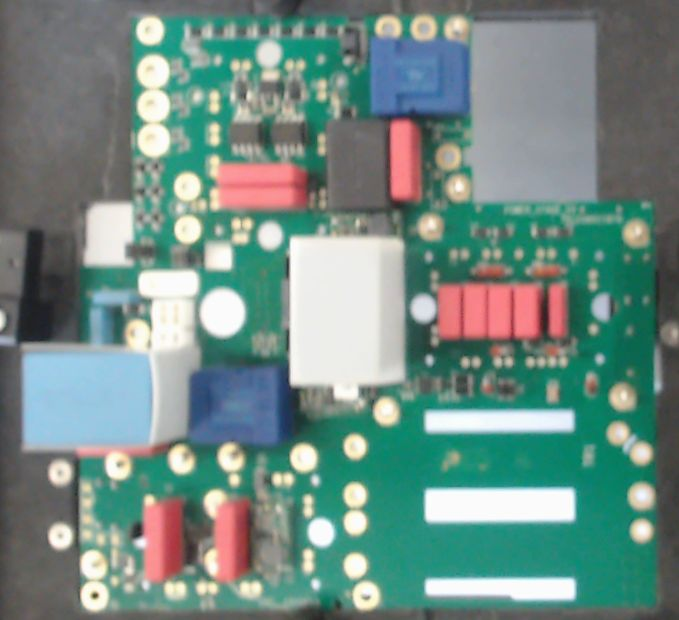comp1: (368, 34, 468, 117), (189, 366, 293, 445)
comp2: (141, 498, 185, 582), (215, 500, 251, 581), (389, 119, 422, 206), (217, 185, 310, 208), (217, 163, 307, 185), (512, 280, 543, 342), (485, 281, 515, 344), (461, 281, 488, 342), (438, 282, 463, 345), (548, 282, 570, 340)
comp3: (324, 121, 390, 213)
comp4: (17, 338, 202, 452), (288, 233, 408, 387)
